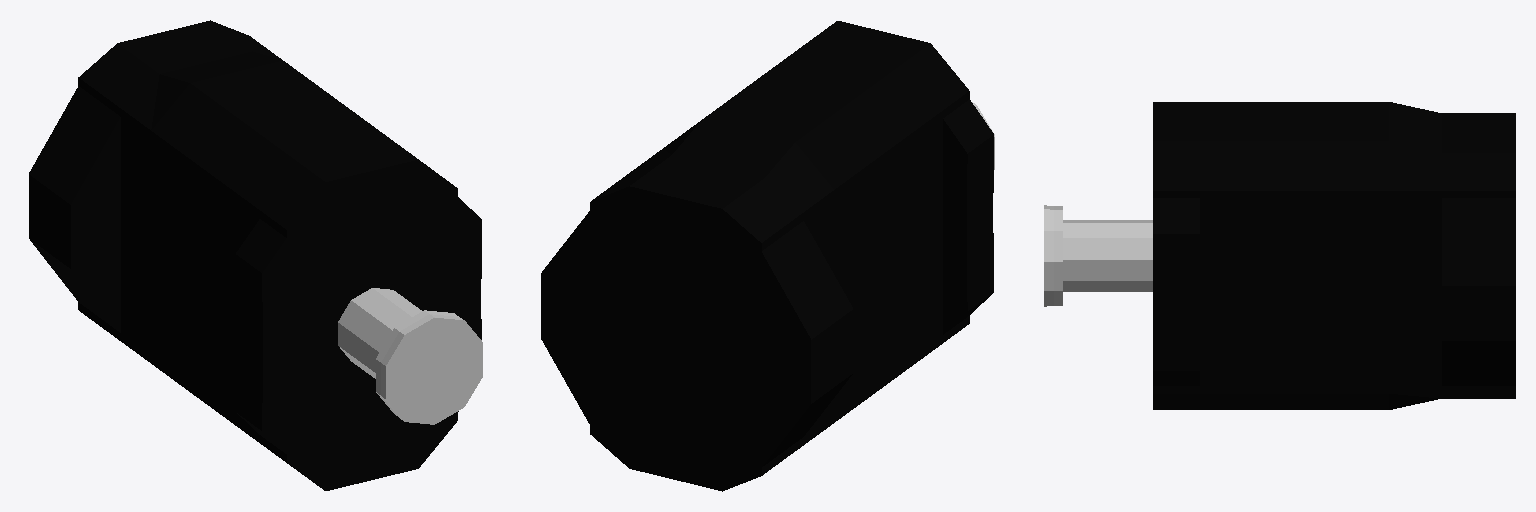
robot.urdf — ur5:
<?xml version="1.0" ?>
<!-- ============================================================================================= -->
<!-- |    This document was autogenerated by xacro from ur_description/urdf/ur5_robot.urdf.xacro | -->
<!-- |    EDITING THIS FILE BY HAND IS NOT RECOMMENDED                                           | -->
<!-- ============================================================================================= -->
<robot name="ur5" xmlns:xacro="http://ros.org/wiki/xacro">
  <material name="LightGrey">
    <color rgba="0.8 0.8 0.8 1.0"/>
  </material>

  <material name="LightBlue">
    <color rgba="0.4 0.6 1 1.0"/>
  </material>

  <material name="DarkGrey">
    <color rgba="0.2 0.2 0.2 1.0"/>
  </material>

  <material name="Black">
    <color rgba="0.05 0.05 0.05 1.0"/>
  </material>

  <link name="base_link">
    <visual>
      <geometry>
        <mesh filename="visual/base.dae"/>
      </geometry>
      <!-- <material name="LightGrey"/> -->
    </visual>
    <collision>
      <geometry>
      	<mesh filename="collision/base.stl"/>
      </geometry>
    </collision>
    <inertial>
      <mass value="4.0"/>
      <origin rpy="0 0 0" xyz="0.0 0.0 0.0"/>
      <inertia ixx="0.00443333156" ixy="0.0" ixz="0.0" iyy="0.00443333156" iyz="0.0" izz="0.0072"/>
    </inertial>
  </link>
  <joint name="shoulder_pan_joint" type="revolute">
    <parent link="base_link"/>
    <child link="shoulder_link"/>
    <origin rpy="0.0 0.0 0.0" xyz="0.0 0.0 0.089159"/>
    <axis xyz="0 0 1"/>
    <limit effort="150.0" lower="-6.28318530718" upper="6.28318530718" velocity="3.15"/>
    <dynamics damping="0.0" friction="0.0"/>
  </joint>
  <link name="shoulder_link">
    <visual>
      <geometry>
        <mesh filename="visual/shoulder.dae"/>
      </geometry>
      <!-- <material name="DarkGrey"/> -->
    </visual>
    <collision>
      <geometry>
        <mesh filename="collision/shoulder.stl"/>
      </geometry>
    </collision>
    <inertial>
      <mass value="3.7"/>
      <origin rpy="0 0 0" xyz="0.0 0.0 0.0"/>
      <inertia ixx="0.010267495893" ixy="0.0" ixz="0.0" iyy="0.010267495893" iyz="0.0" izz="0.00666"/>
    </inertial>
  </link>
  <joint name="shoulder_lift_joint" type="revolute">
    <parent link="shoulder_link"/>
    <child link="upper_arm_link"/>
    <origin rpy="0.0 1.57079632679 0.0" xyz="0.0 0.13585 0.0"/>
    <axis xyz="0 1 0"/>
    <limit effort="150.0" lower="-6.28318530718" upper="6.28318530718" velocity="3.15"/>
    <dynamics damping="0.0" friction="0.0"/>
  </joint>
  <link name="upper_arm_link">
    <visual>
      <geometry>
        <mesh filename="visual/upperarm.dae"/>
      </geometry>
      <!-- <material name="LightGrey"/> -->
    </visual>
    <collision>
      <geometry>
        <mesh filename="collision/upperarm.stl"/>
      </geometry>
    </collision>
    <inertial>
      <mass value="8.393"/>
      <origin rpy="0 0 0" xyz="0.0 0.0 0.28"/>
      <inertia ixx="0.22689067591" ixy="0.0" ixz="0.0" iyy="0.22689067591" iyz="0.0" izz="0.0151074"/>
    </inertial>
  </link>
  <joint name="elbow_joint" type="revolute">
    <parent link="upper_arm_link"/>
    <child link="forearm_link"/>
    <origin rpy="0.0 0.0 0.0" xyz="0.0 -0.1197 0.425"/>
    <axis xyz="0 1 0"/>
    <limit effort="150.0" lower="-3.14159265359" upper="3.14159265359" velocity="3.15"/>
    <dynamics damping="0.0" friction="0.0"/>
  </joint>
  <link name="forearm_link">
    <visual>
      <geometry>
        <mesh filename="visual/forearm.dae"/>
      </geometry>
      <!-- <material name="DarkGrey"/> -->
    </visual>
    <collision>
      <geometry>
        <mesh filename="collision/forearm.stl"/>
      </geometry>
    </collision>
    <inertial>
      <mass value="2.275"/>
      <origin rpy="0 0 0" xyz="0.0 0.0 0.25"/>
      <inertia ixx="0.049443313556" ixy="0.0" ixz="0.0" iyy="0.049443313556" iyz="0.0" izz="0.004095"/>
    </inertial>
  </link>
  <joint name="wrist_1_joint" type="revolute">
    <parent link="forearm_link"/>
    <child link="wrist_1_link"/>
    <origin rpy="0.0 1.57079632679 0.0" xyz="0.0 0.0 0.39225"/>
    <axis xyz="0 1 0"/>
    <limit effort="28.0" lower="-6.28318530718" upper="6.28318530718" velocity="3.2"/>
    <dynamics damping="0.0" friction="0.0"/>
  </joint>
  <link name="wrist_1_link">
    <visual>
      <geometry>
        <mesh filename="visual/wrist1.dae"/>
      </geometry>
      <!-- <material name="LightGrey"/> -->
    </visual>
    <collision>
      <geometry>
        <mesh filename="collision/wrist1.stl"/>
      </geometry>
    </collision>
    <inertial>
      <mass value="1.219"/>
      <origin rpy="0 0 0" xyz="0.0 0.0 0.0"/>
      <inertia ixx="0.111172755531" ixy="0.0" ixz="0.0" iyy="0.111172755531" iyz="0.0" izz="0.21942"/>
    </inertial>
  </link>
  <joint name="wrist_2_joint" type="revolute">
    <parent link="wrist_1_link"/>
    <child link="wrist_2_link"/>
    <origin rpy="0.0 0.0 0.0" xyz="0.0 0.093 0.0"/>
    <axis xyz="0 0 1"/>
    <limit effort="28.0" lower="-6.28318530718" upper="6.28318530718" velocity="3.2"/>
    <dynamics damping="0.0" friction="0.0"/>
  </joint>
  <link name="wrist_2_link">
    <visual>
      <geometry>
        <mesh filename="visual/wrist2.dae"/>
      </geometry>
      <!-- <material name="DarkGrey"/> -->
    </visual>
    <collision>
      <geometry>
        <mesh filename="collision/wrist2.stl"/>
      </geometry>
    </collision>
    <inertial>
      <mass value="1.219"/>
      <origin rpy="0 0 0" xyz="0.0 0.0 0.0"/>
      <inertia ixx="0.111172755531" ixy="0.0" ixz="0.0" iyy="0.111172755531" iyz="0.0" izz="0.21942"/>
    </inertial>
  </link>
  <joint name="wrist_3_joint" type="revolute">
    <parent link="wrist_2_link"/>
    <child link="wrist_3_link"/>
    <origin rpy="0.0 0.0 0.0" xyz="0.0 0.0 0.09465"/>
    <axis xyz="0 1 0"/>
    <limit effort="28.0" lower="-6.28318530718" upper="6.28318530718" velocity="3.2"/>
    <dynamics damping="0.0" friction="0.0"/>
  </joint>
  <link name="wrist_3_link">
    <visual>
      <geometry>
        <mesh filename="visual/wrist3.dae"/>
      </geometry>
      <!-- <material name="LightGrey"/> -->
    </visual>
    <collision>
      <geometry>
        <mesh filename="collision/wrist3.stl"/>
      </geometry>
    </collision>
    <inertial>
      <mass value="0.1879"/>
      <origin rpy="0 0 0" xyz="0.0 0.0 0.0"/>
      <inertia ixx="0.0171364731454" ixy="0.0" ixz="0.0" iyy="0.0171364731454" iyz="0.0" izz="0.033822"/>
    </inertial>
  </link>


  <!-- nothing to do here at the moment -->
  <!-- ROS base_link to UR 'Base' Coordinates transform -->
  <link name="base">
    <inertial>
      <mass value="0.0"/>
      <origin rpy="0 0 0" xyz="0.0 0.0 0.0"/>
      <inertia ixx="0.0" ixy="0.0" ixz="0.0" iyy="0.0" iyz="0.0" izz="0.0"/>
    </inertial>
  </link>
  <joint name="base_link-base_fixed_joint" type="fixed">
    <!-- NOTE: this rotation is only needed as long as base_link itself is
                 not corrected wrt the real robot (ie: rotated over 180
                 degrees)
      -->
    <origin rpy="0 0 -3.14159265359" xyz="0 0 0"/>
    <parent link="base_link"/>
    <child link="base"/>
  </joint>
  <!-- Frame coincident with all-zeros TCP on UR controller -->
  <link name="tool0">
    <inertial>
      <mass value="0.0"/>
      <origin rpy="0 0 0" xyz="0.0 0.0 0.0"/>
      <inertia ixx="0.0" ixy="0.0" ixz="0.0" iyy="0.0" iyz="0.0" izz="0.0"/>
    </inertial>
  </link>
  <joint name="wrist_3_link-tool0_fixed_joint" type="fixed">
    <origin rpy="-1.57079632679 0 0" xyz="0 0.0823 0"/>
    <parent link="wrist_3_link"/>
    <child link="tool0"/>
  </joint>

  <!-- gripper -->
  
  
  <link name="gripper_base">
    <inertial>
      <mass value="0.1879"/>
      <origin rpy="0 0 0" xyz="0.0 0.0 0.0"/>
      <inertia ixx="0.0" ixy="0.0" ixz="0.0" iyy="0.0" iyz="0.0" izz="0.0"/>
    </inertial>
    <visual>
      <geometry>
        <mesh filename="suction/epick_base.stl"/>
      </geometry>
      <origin rpy="0 0 0" xyz="0 0 0"/>
      <material name="Black"/>
    </visual>
    <collision>
      <geometry>
        <mesh filename="suction/epick_base.dae"/>
      </geometry>
      <origin rpy="0 0 0" xyz="0 0 0"/>
    </collision>
  </link>
  <joint name="tool0-gb" type="fixed">
    <origin rpy="0 0 3.14159265359" xyz="0 0 0"/>
    <parent link="tool0"/>
    <child link="gripper_base"/>
  </joint>
  
  <link name="gripper_connect">
    <inertial>
      <mass value="0.0"/>
      <origin rpy="0 0 0" xyz="0. 0.0 0.0"/>
      <inertia ixx="0.0" ixy="0.0" ixz="0.0" iyy="0.0" iyz="0.0" izz="0.0"/>
    </inertial>
    <visual>
      <geometry>
        <mesh filename="suction/epick_connect.stl"/>
      </geometry>
      <origin rpy="0 0 0" xyz="0 0 0"/>
      <material name="LightGrey"/>
    </visual>
    <collision>
      <geometry>
        <mesh filename="suction/epick_connect.stl"/>
      </geometry>
      <origin rpy="0 0 0" xyz="0 0 0"/>
    </collision>
  </link>
  <joint name="gb-connect" type="fixed">
    <origin rpy="0 0 0" xyz="0 0.0 0.1"/>
    <parent link="gripper_base"/>
    <child link="gripper_connect"/>
  </joint>
  
  <link name="gripper_vacuum">
    <inertial>
      <mass value="0.0"/>
      <origin rpy="0 0 0" xyz="0. 0.0 0.0"/>
      <inertia ixx="0.0" ixy="0.0" ixz="0.0" iyy="0.0" iyz="0.0" izz="0.0"/>
    </inertial>
    <visual>
      <geometry>
        <mesh filename="suction/epick_vacuum.stl"/>
      </geometry>
      <origin rpy="0 0 0" xyz="0 0 0"/>
      <material name="LightGrey"/>
    </visual>
    <collision>
      <geometry>
        <mesh filename="suction/epick_vacuum.stl"/>
      </geometry>
      <origin rpy="0 0 0" xyz="0 0 0"/>
    </collision>
  </link>
  <joint name="connect-vacuum" type="fixed">
    <origin rpy="0 0 0" xyz="0 0.0 0.025"/>
    <parent link="gripper_connect"/>
    <child link="gripper_vacuum"/>
  </joint>
  
  <link name="gripper_center">
    <inertial>
      <mass value="0.0"/>
      <origin rpy="0 0 0" xyz="0. 0.0 0.0"/>
      <inertia ixx="0.0" ixy="0.0" ixz="0.0" iyy="0.0" iyz="0.0" izz="0.0"/>
    </inertial>
  </link>
  <joint name="gb-gc" type="fixed">
    <origin rpy="0 0 0" xyz="0 0.0 0.13"/>
    <parent link="gripper_base"/>
    <child link="gripper_center"/>
  </joint>
  
  
  
  

  <link name="world"/>
  <joint name="world_joint" type="fixed">
    <parent link="world"/>
    <child link="rotated_base_link"/>
    <origin rpy="0.0 0.0 0.0" xyz="0.0 0.0 0.0"/>
  </joint>

  <link name="rotated_base_link">
    <inertial>
      <mass value="0.0"/>
      <origin rpy="0 0 0" xyz="0.0 0.0 0.0"/>
      <inertia ixx="0.0" ixy="0.0" ixz="0.0" iyy="0.0" iyz="0.0" izz="0.0"/>
    </inertial>
  </link>>

  <joint name="rotated_base-base_fixed_joint" type="fixed">
    <origin xyz="0.0 0.0 0.0" rpy="0.0 0.0 3.141592653589793"/>
    <parent link="rotated_base_link"/>
    <child link="base_link"/>
  </joint>
</robot>

--- Render facts (derived) ---
The picture shows the robot from 3 angles, left to right: view 1: azimuth 30°, elevation 25°; view 2: azimuth 150°, elevation 25°; view 3: azimuth 270°, elevation 25°; orthographic projection.
Robot: ur5 — 15 links, 14 joints (6 revolute, 8 fixed); root link world; default pose: all joints at 0.
Visible links, largest first — view 1: gripper_base, gripper_vacuum, gripper_connect; view 2: gripper_base; view 3: gripper_base, gripper_connect, gripper_vacuum.
Link boxes in pixels (bbox=[...]): gripper_base: bbox=[29, 20, 481, 490]; gripper_vacuum: bbox=[376, 310, 482, 424]; gripper_connect: bbox=[338, 288, 421, 378]; gripper_base: bbox=[541, 21, 993, 491]; gripper_base: bbox=[1153, 102, 1515, 409]; gripper_connect: bbox=[1063, 220, 1152, 291]; gripper_vacuum: bbox=[1044, 205, 1062, 306].
Size in the robot's own frame: 0.0751 by 0.13 by 0.082 metres.
Meshes: 10 distinct files referenced, 3 mesh visuals loaded (3 binary STL); not drawn: 7 (reference not matched to a file when rendering).